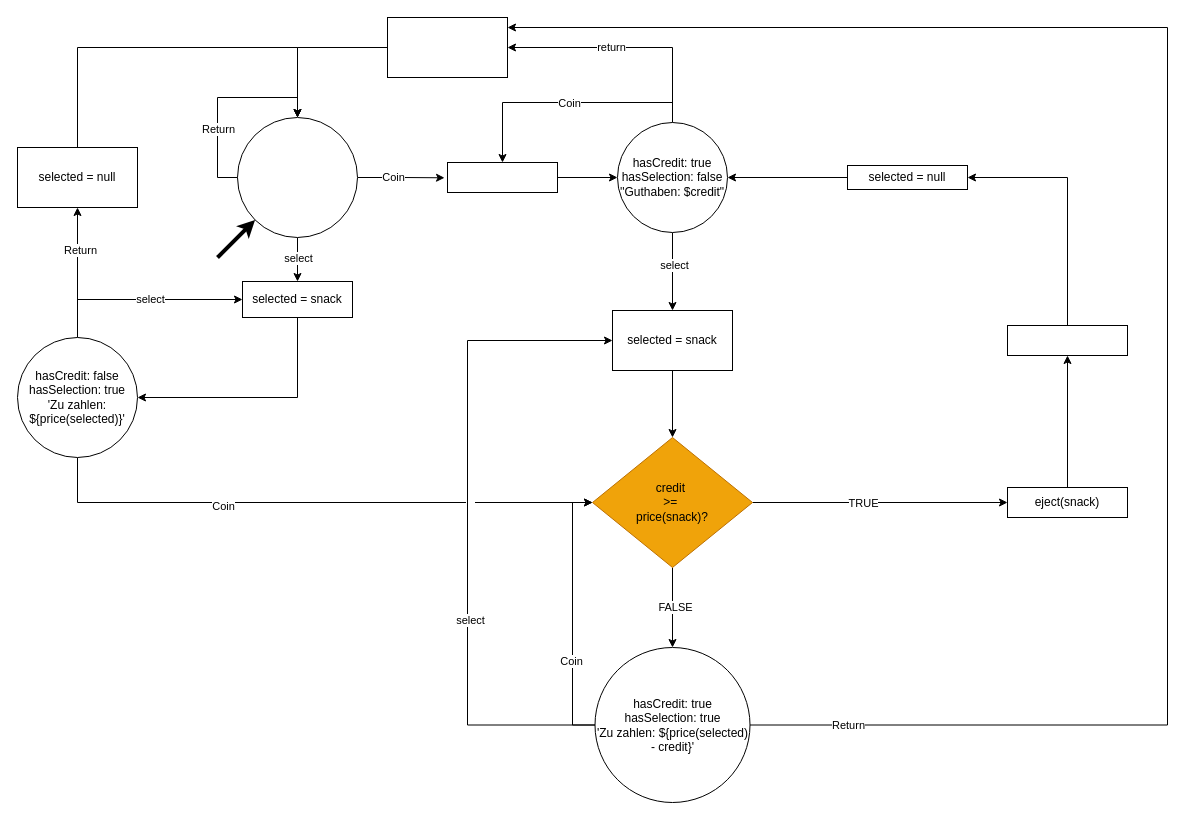
This 1193x820 diagram has some shape labels left out. The shapes that lost their labels are listed below. From the top down, each one's centre as x and y in pixels, then its label:
pixel 447 47: return(credit) credit = 0,
pixel 297 177: hasCredit: false has selection: false 'Willkommen'
pixel 502 177: credit += coinValue
pixel 1067 340: credit -= price(snack
